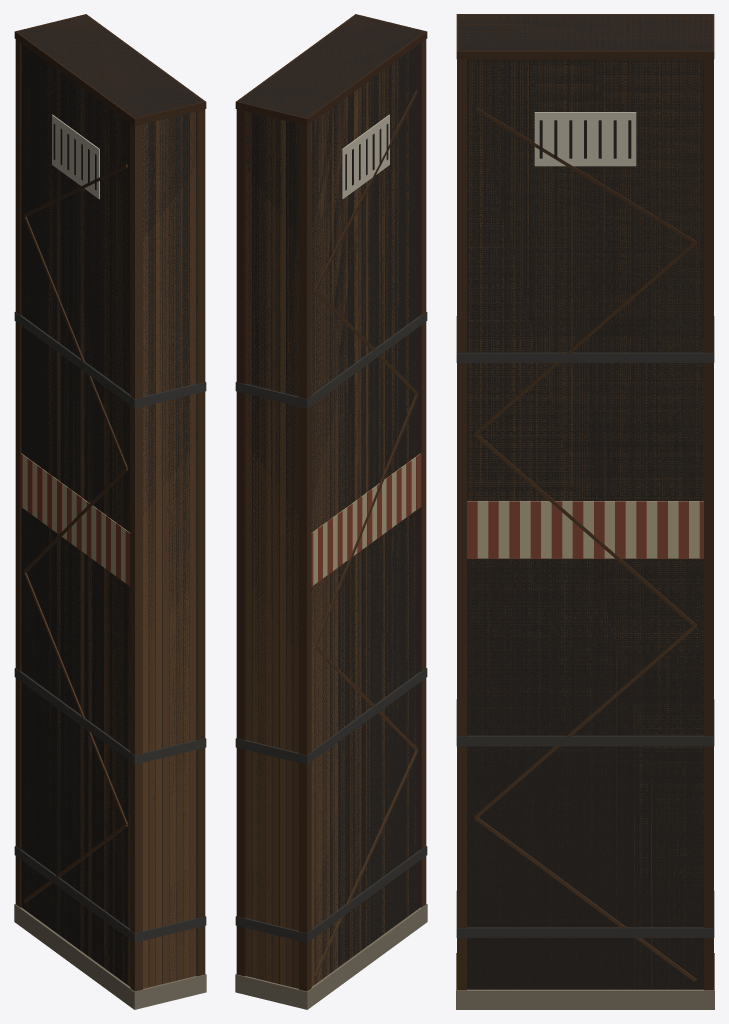
The model's file is flume_bent_50.glb.
3 renders of one model, left to right at view 1: azimuth 30°, elevation 25°; view 2: azimuth 150°, elevation 25°; view 3: azimuth 270°, elevation 25°, orthographic. The views are drawn at different scales.
Parts seen in each view (by area): view 1: flume_bent_50_body, flume_bent_50-col-col; view 2: flume_bent_50_body, flume_bent_50-col-col; view 3: flume_bent_50-col-col, flume_bent_50_body.
Part boxes in pixels (x1,y1,x2,y2): flume_bent_50_body: (14, 14, 206, 1009); flume_bent_50-col-col: (18, 15, 202, 987); flume_bent_50_body: (235, 14, 427, 1009); flume_bent_50-col-col: (239, 15, 423, 987); flume_bent_50-col-col: (458, 15, 712, 989); flume_bent_50_body: (456, 14, 714, 1009).
Size of the model in its own units: 4.24 by 50 by 12.24.
